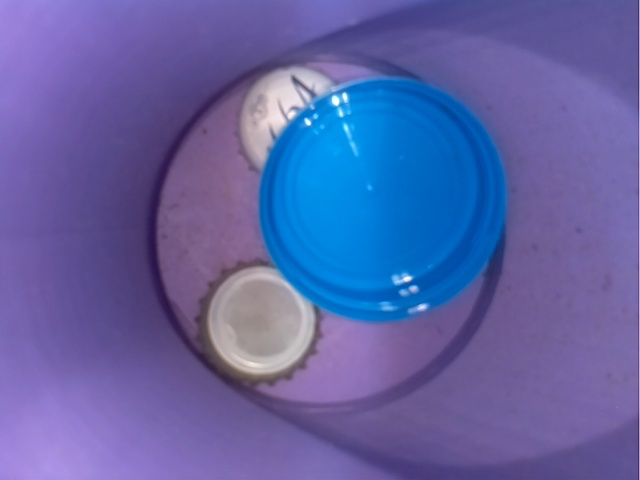bouchon: (247, 70, 530, 327)
capsule: (196, 250, 324, 394), (224, 54, 351, 178)
